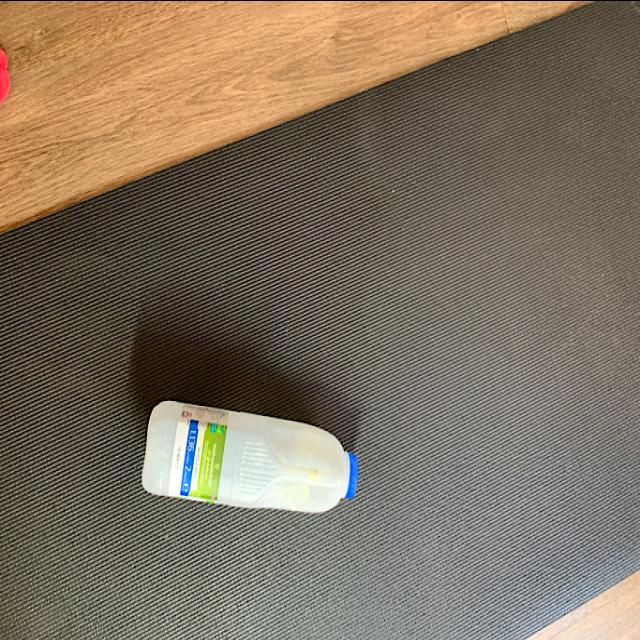litter: (144, 403, 362, 518)
